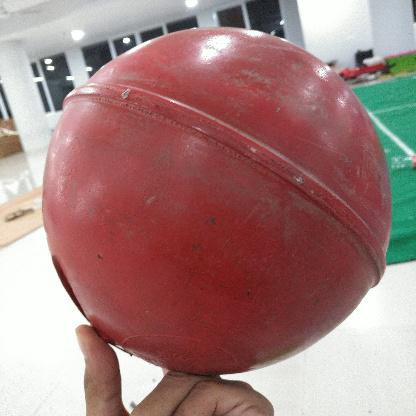red_buoy: (42, 27, 392, 378)
